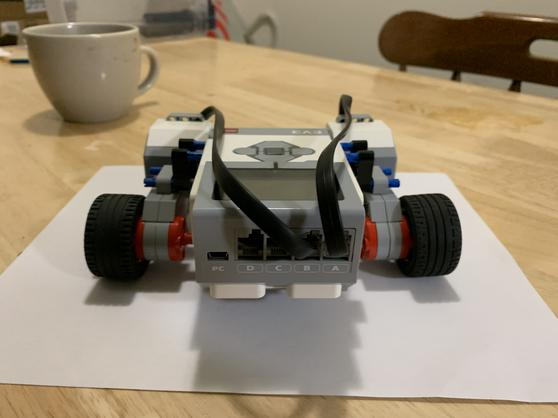robot: (76, 88, 488, 307)
